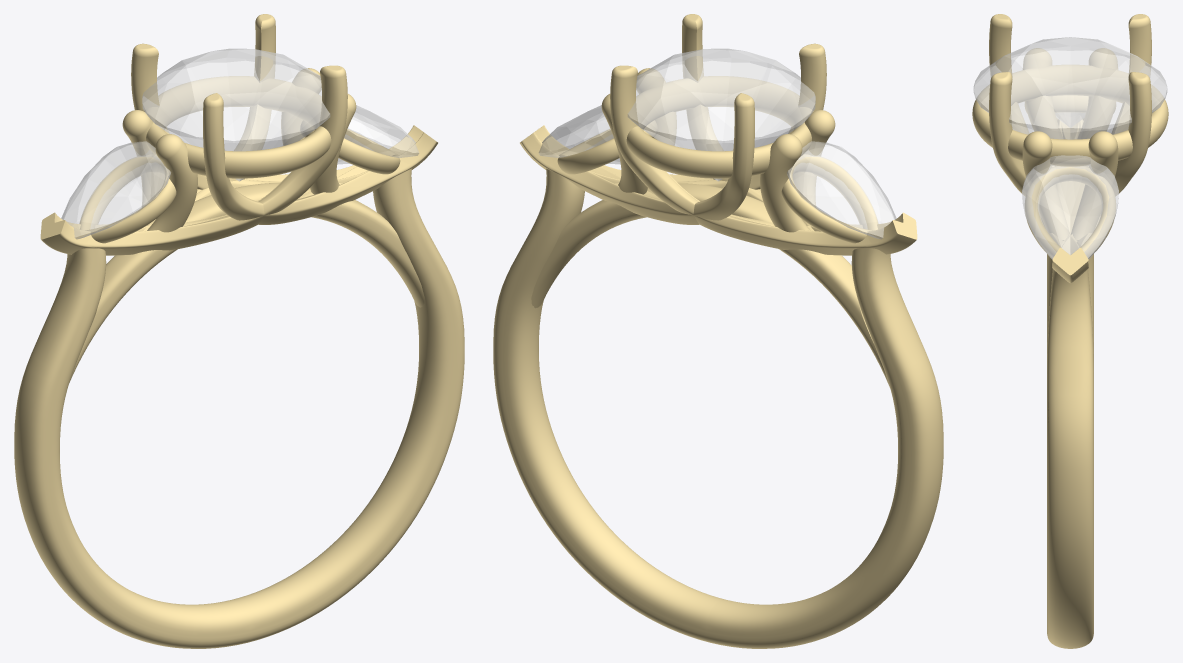
The picture shows the model from 3 angles, left to right: view 1: azimuth 30°, elevation 25°; view 2: azimuth 150°, elevation 25°; view 3: azimuth 270°, elevation 25°; orthographic projection.
Visible parts, largest first — view 1: NNObj_12, NNObj_13, Head Rail (×3), NNObj_0, NNObj_11, NNObj_7, NNObj_2, NNObj_10, NNObj_8, NNObj_9, NNObj_4, NNObj_1 (+3 smaller); view 2: NNObj_12, NNObj_13, Head Rail (×3), NNObj_0, NNObj_8, NNObj_7, NNObj_2, NNObj_9, NNObj_11, NNObj_10, NNObj_3, NNObj_1 (+3 smaller); view 3: NNObj_13, NNObj_0, Head Rail (×3), NNObj_1, NNObj_11, NNObj_8, NNObj_10, NNObj_9, NNObj_5, NNObj_6, NNObj_3, NNObj_4 (+2 smaller).
Boxes of the visible parts, x1=… form: NNObj_12: x1=14, y1=248, x2=251, y2=648; NNObj_13: x1=233, y1=168, x2=464, y2=642; Head Rail (×3): x1=79, y1=76, x2=400, y2=243; NNObj_0: x1=142, y1=48, x2=330, y2=181; NNObj_11: x1=41, y1=65, x2=347, y2=255; NNObj_7: x1=69, y1=183, x2=424, y2=382; NNObj_2: x1=61, y1=141, x2=170, y2=239; NNObj_10: x1=203, y1=93, x2=437, y2=224; NNObj_8: x1=40, y1=14, x2=275, y2=254; NNObj_9: x1=131, y1=43, x2=437, y2=189; NNObj_4: x1=147, y1=134, x2=197, y2=232; NNObj_1: x1=337, y1=105, x2=418, y2=164; NNObj_12: x1=706, y1=248, x2=943, y2=648; NNObj_13: x1=493, y1=168, x2=724, y2=642; Head Rail (×3): x1=557, y1=76, x2=878, y2=243; NNObj_0: x1=627, y1=48, x2=815, y2=181; NNObj_8: x1=610, y1=65, x2=916, y2=255; NNObj_7: x1=531, y1=183, x2=889, y2=387; NNObj_2: x1=787, y1=141, x2=896, y2=239; NNObj_9: x1=520, y1=93, x2=754, y2=224; NNObj_11: x1=682, y1=14, x2=917, y2=254; NNObj_10: x1=520, y1=43, x2=826, y2=189; NNObj_3: x1=760, y1=134, x2=810, y2=232; NNObj_1: x1=539, y1=105, x2=620, y2=164; NNObj_13: x1=1047, y1=269, x2=1093, y2=648; NNObj_0: x1=973, y1=37, x2=1167, y2=139; Head Rail (×3): x1=972, y1=65, x2=1168, y2=258; NNObj_1: x1=1022, y1=155, x2=1118, y2=259; NNObj_11: x1=989, y1=72, x2=1078, y2=195; NNObj_8: x1=1062, y1=72, x2=1151, y2=195; NNObj_10: x1=989, y1=14, x2=1088, y2=283; NNObj_9: x1=1052, y1=14, x2=1151, y2=282; NNObj_5: x1=1022, y1=131, x2=1069, y2=240; NNObj_6: x1=1071, y1=131, x2=1118, y2=240; NNObj_3: x1=1078, y1=48, x2=1117, y2=138; NNObj_4: x1=1023, y1=48, x2=1062, y2=138.
Bounding box in the file's own units: 0.0209 × 0.0264 × 0.0081.
